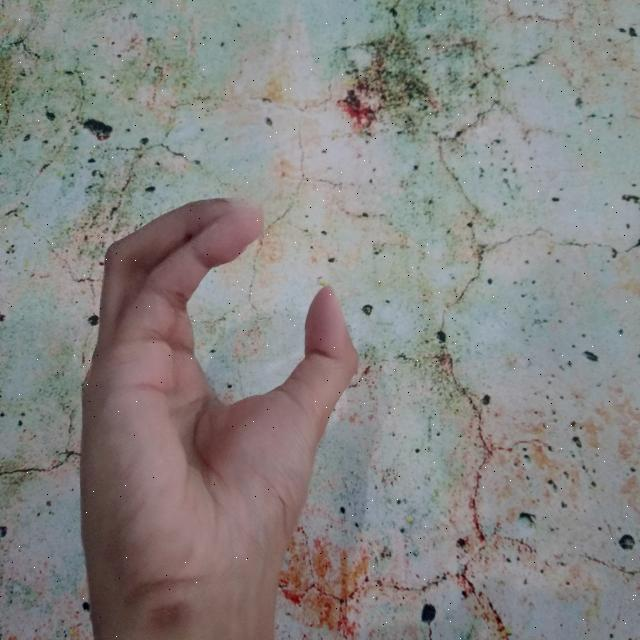C: (85, 195, 363, 640)
